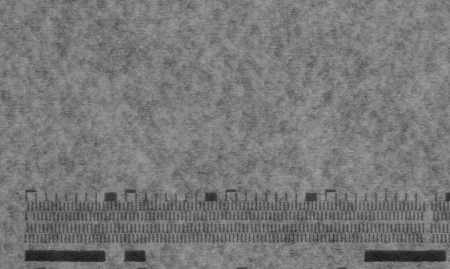Broken hole: (24, 210, 38, 222)
